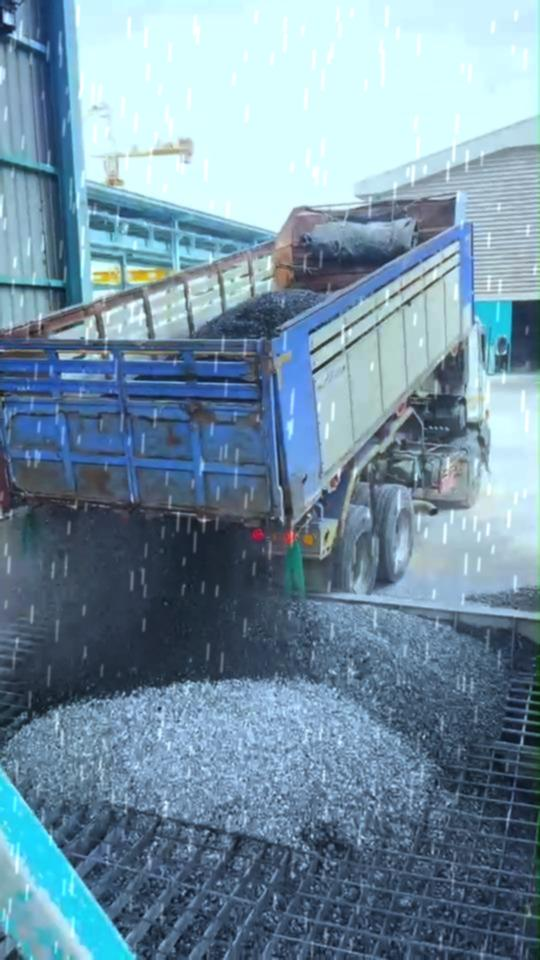gravel: (3, 680, 436, 847), (24, 511, 295, 715), (273, 601, 509, 762), (197, 289, 324, 338), (466, 585, 539, 611)
